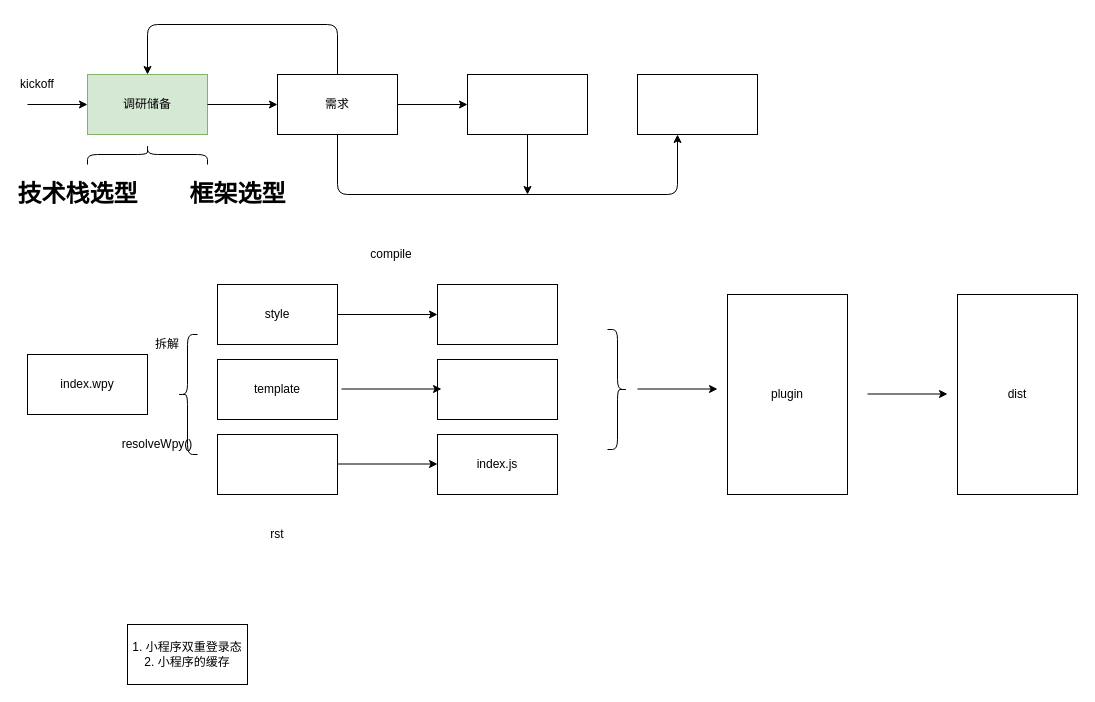
Some shapes in this 1095 by 702 pixel diagram are drawn without their labels. Each missing label, with the box of its shape:
index.wxml: (436, 358, 558, 420)
index.wxss: (436, 284, 558, 344)
script: (216, 434, 338, 494)
实施开发: (636, 74, 758, 134)
技术架构: (466, 74, 588, 134)
